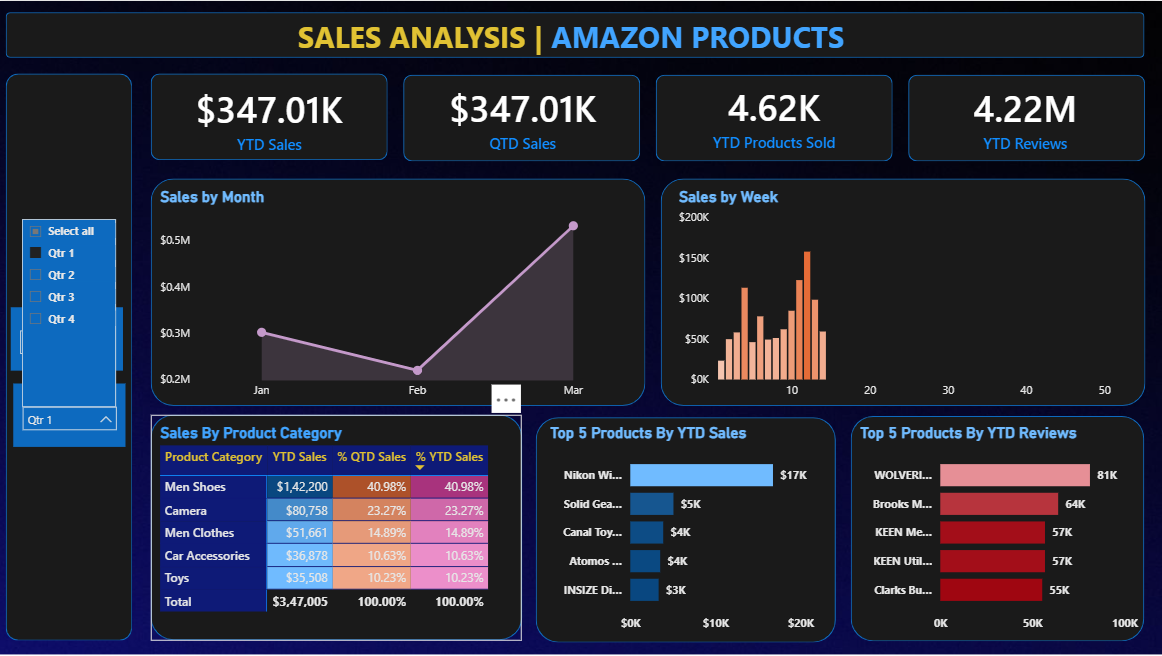

This screenshot's page, from the dashboard's own definition file:
{"tool":"powerbi","page":{"name":"Page 1","canvas":[1280,720],"ordinal":0},"visuals":[{"type":"shape","box":[10,12.5,1250,50],"z":0},{"type":"textbox","box":[325,12.5,630,56.2],"z":1000},{"type":"shape","box":[9.7,79.6,138.7,622.5],"z":2000},{"type":"shape","box":[168.8,80,260,95],"z":3000},{"type":"card","fields":{"Values":["Amazon_Data.YTD Sales"]},"box":[186.2,75,225,106.2],"z":4000},{"type":"shape","box":[445.8,81.2,260,95],"z":5000},{"type":"card","fields":{"Values":["Amazon_Data.QTD Sales"]},"box":[467.5,86.2,218.8,83.8],"z":6000},{"type":"shape","box":[722.9,81.2,260,95],"z":7000},{"type":"shape","box":[1000,81.2,260,95],"z":8000},{"type":"card","fields":{"Values":["Amazon_Data.Products Sold"]},"box":[743.8,85,218.8,83.8],"z":9000},{"type":"card","fields":{"Values":["Amazon_Data.YTD Reviews"]},"box":[1020,86.2,218.8,83.8],"z":10000},{"type":"shape","box":[168.9,195.4,542.9,249.7],"z":11000},{"type":"areaChart","title":"Sales by Month ","fields":{"Category":["Date Table.Month Name"],"Y":["Sum(Amazon_Data.Price(Dollar))"]},"box":[174.9,203.9,532,241.3],"z":12000},{"type":"shape","box":[728.7,195.4,532,249.7],"z":13000},{"type":"columnChart","title":"Sales by Week","fields":{"Y":["Sum(Amazon_Data.Price(Dollar))"],"Category":["Date Table.Week"]},"box":[743.2,203.9,527.2,241.3],"z":14000},{"type":"shape","box":[168.9,454.8,407.8,247.3],"z":15000},{"type":"pivotTable","title":"Sales By Product Category","fields":{"Rows":["Amazon_Data.Product Category"],"Values":["Amazon_Data.YTD Sales1","Amazon_Data.QTD Sales","Amazon_Data.YTD Sales"]},"box":[174.9,464.5,460.9,247.3],"z":16000},{"type":"shape","box":[591.2,457.2,329.4,247.3],"z":17000},{"type":"shape","box":[937.4,456,322.1,247.3],"z":18000},{"type":"clusteredBarChart","title":"Top 5 Products By YTD Sales","fields":{"Category":["Amazon_Data.Product Description"],"Y":["Amazon_Data.YTD Sales"]},"box":[602.4,463.8,318.4,237.4],"z":19000},{"type":"clusteredBarChart","title":"Top 5 Products By YTD Reviews","fields":{"Category":["Amazon_Data.Product Description"],"Y":["Amazon_Data.YTD Reviews"]},"box":[942.7,463.8,318.4,237.4],"z":20000},{"type":"slicer","fields":{"Values":["Amazon_Data.Product Category"]},"box":[15.1,336.2,123.5,70],"z":21000},{"type":"slicer","fields":{"Values":["Date Table.Qtr"]},"box":[17.8,419.9,123.5,70],"z":22000}]}

Visuals, with their boxes in screenshot pixels (x1, y1, x2, y2), scaled from the page's 1280x720 canvas onto the 1162x656 screenshot:
shape: <box>9,11,1144,57</box>
textbox: <box>295,11,867,63</box>
shape: <box>9,73,135,640</box>
shape: <box>153,73,389,159</box>
card - Amazon_Data.YTD Sales: <box>169,68,373,165</box>
shape: <box>405,74,641,161</box>
card - Amazon_Data.QTD Sales: <box>424,79,623,155</box>
shape: <box>656,74,892,161</box>
shape: <box>908,74,1144,161</box>
card - Amazon_Data.Products Sold: <box>675,77,874,154</box>
card - Amazon_Data.YTD Reviews: <box>926,79,1125,155</box>
shape: <box>153,178,646,406</box>
"Sales by Month " areaChart: <box>159,186,642,406</box>
shape: <box>662,178,1144,406</box>
"Sales by Week" columnChart: <box>675,186,1153,406</box>
shape: <box>153,414,524,640</box>
"Sales By Product Category" pivotTable: <box>159,423,577,649</box>
shape: <box>537,417,836,642</box>
shape: <box>851,415,1143,641</box>
"Top 5 Products By YTD Sales" clusteredBarChart: <box>547,423,836,639</box>
"Top 5 Products By YTD Reviews" clusteredBarChart: <box>856,423,1145,639</box>
slicer - Amazon_Data.Product Category: <box>14,306,126,370</box>
slicer - Date Table.Qtr: <box>16,383,128,446</box>
